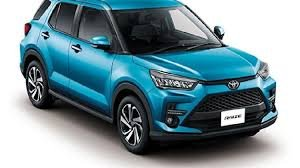mobil: (3, 1, 286, 155)
